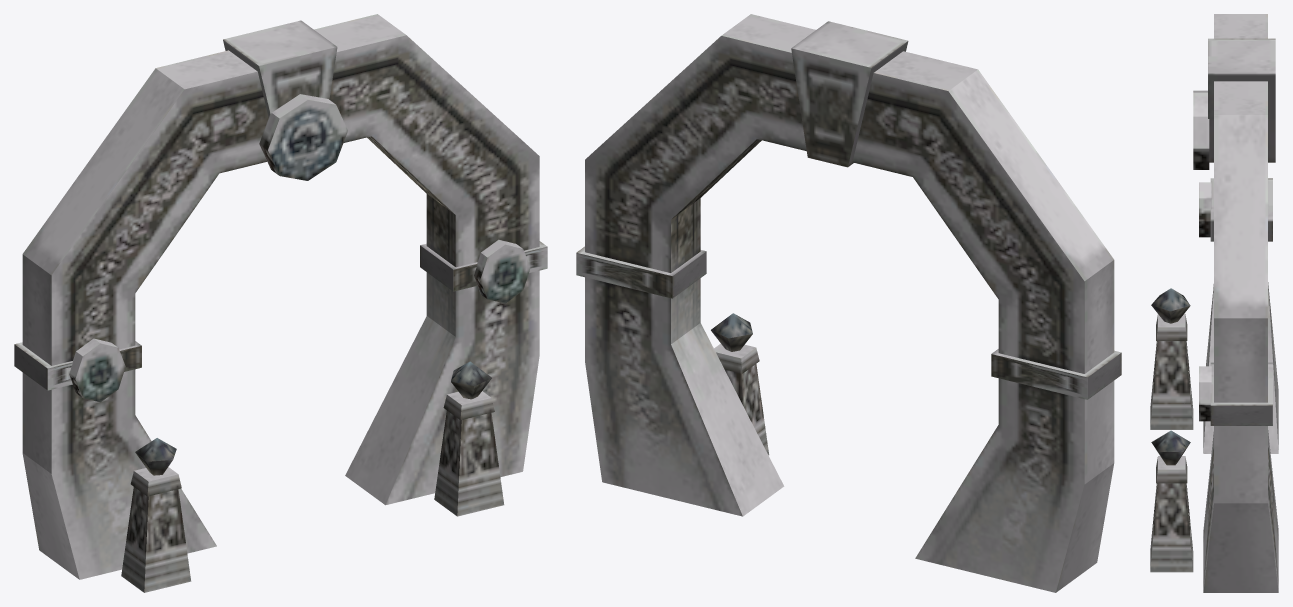
File: warpgate02.glb
3 renders of one model, left to right at view 1: azimuth 30°, elevation 25°; view 2: azimuth 150°, elevation 25°; view 3: azimuth 270°, elevation 25°, orthographic. The views are drawn at different scales.
Parts seen in each view (by area): view 1: Object01; view 2: Object01; view 3: Object01.
Boxes of the visible parts, bbox=[...] form: Object01: bbox=[14, 14, 547, 592]; Object01: bbox=[576, 14, 1121, 592]; Object01: bbox=[1150, 14, 1278, 592].
Bounding box in the file's own units: 8.61 × 7.72 × 2.06.
1 material, 1 textured.
